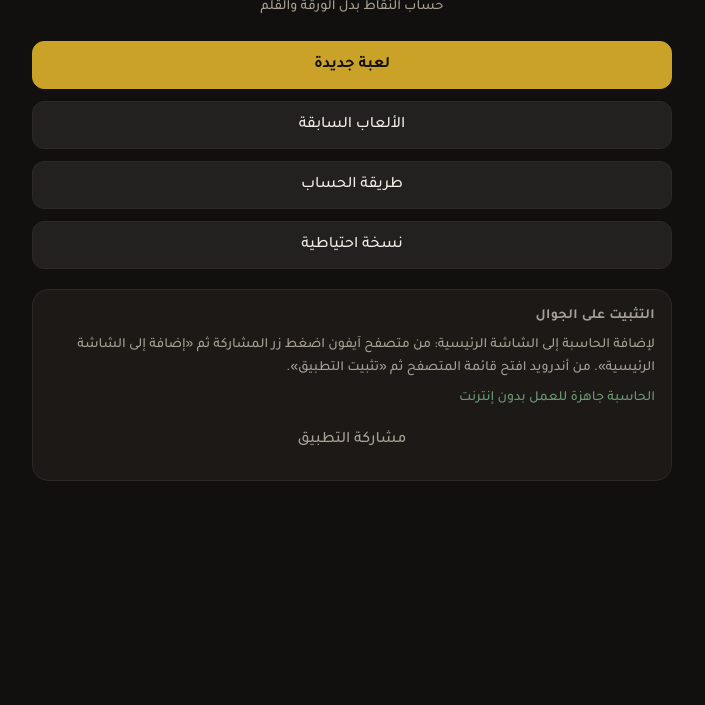
Test case: starting a game › refuses duplicate names
Click the button "لعبة جديدة".
click(352, 65)  # box [32,41,672,89]
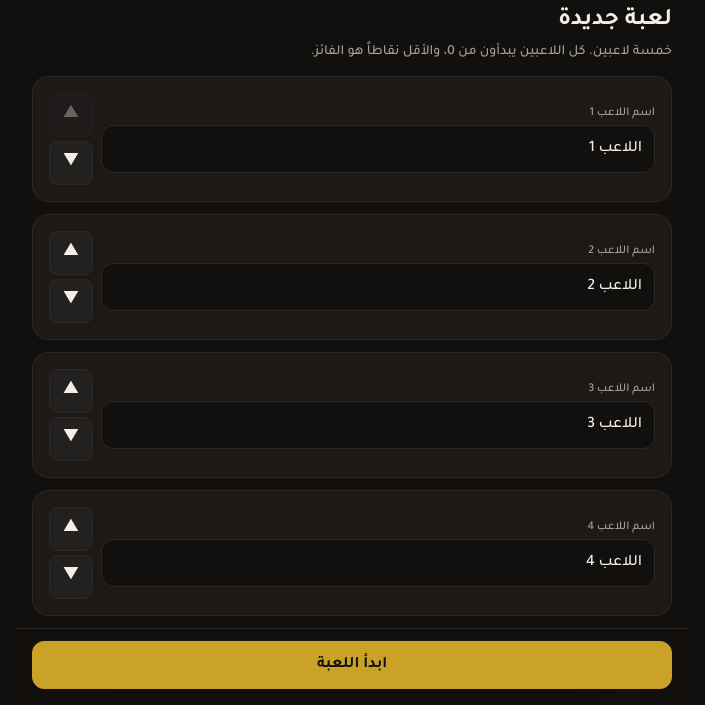
Replace the text in the field labelled "اسم اللاعب 2" with "اللاعب 1" at point(378, 287), box [101,263,655,311]
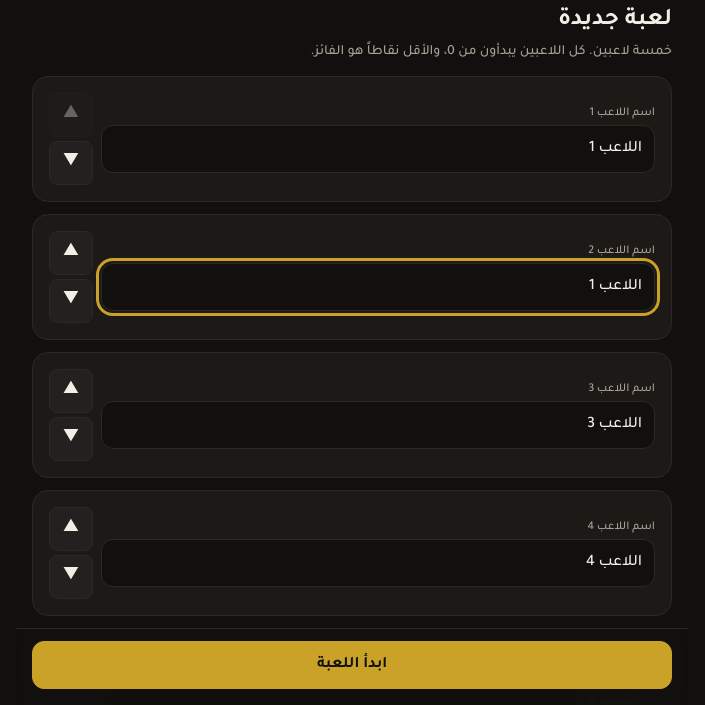
Click the button "ابدأ اللعبة".
click(352, 665)  # box [32,641,672,689]
(page scrolled)
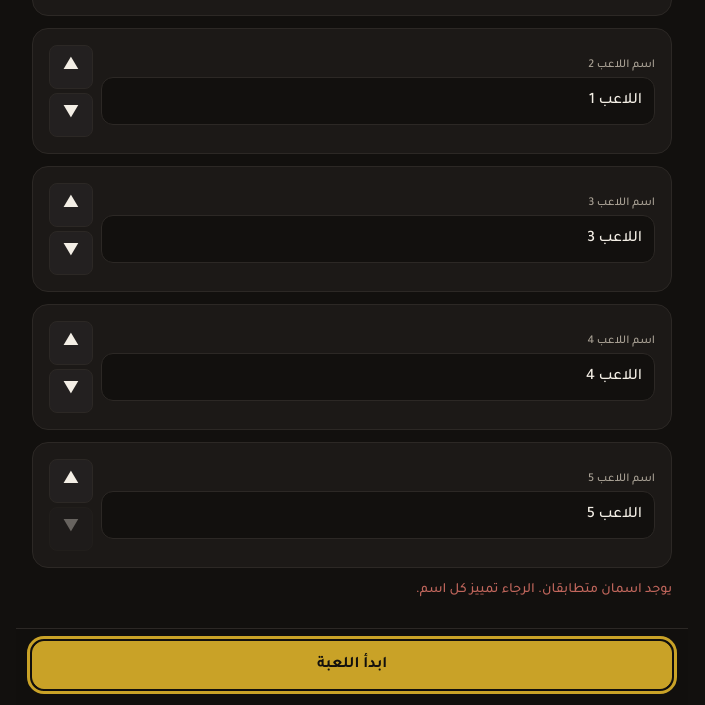
expect the message "يوجد اسمان متطابقان. الرجاء تمييز كل اسم." is shown: met, box [416,583,672,597]
